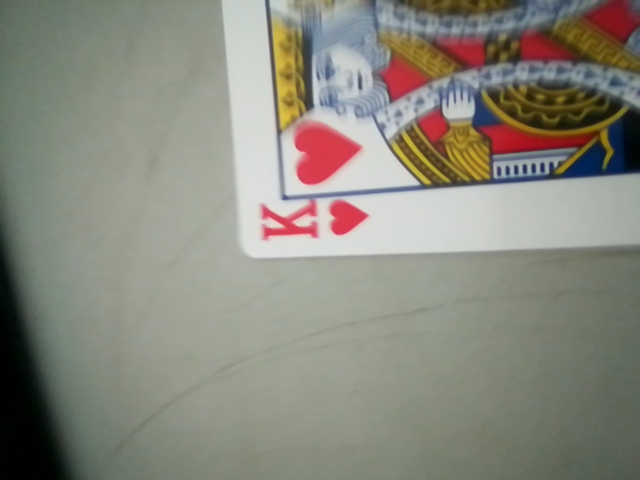hx k: (253, 192, 371, 254)
